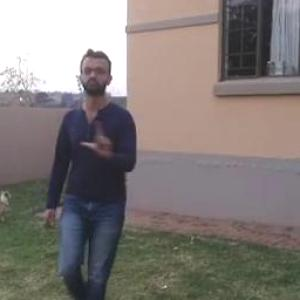land_hand: (79, 112, 117, 160)
